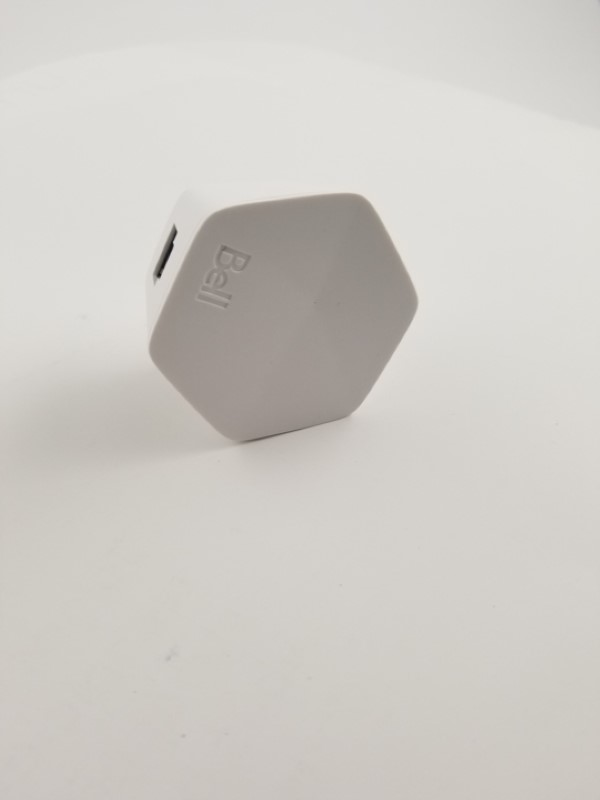pod: (134, 169, 426, 460)
